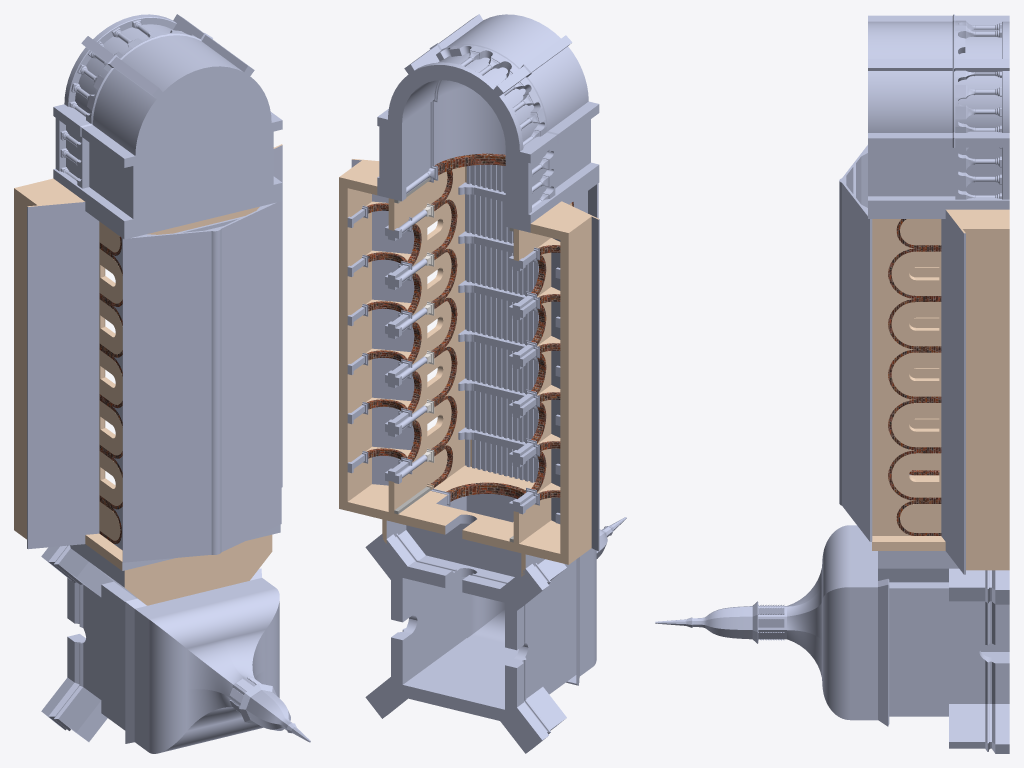
File: main.glb
3 renders of one model, left to right at view 1: azimuth 30°, elevation 25°; view 2: azimuth 150°, elevation 25°; view 3: azimuth 270°, elevation 25°, orthographic. The views are drawn at different scales.
Parts seen in each view (by area): view 1: nef V2-1, murs bas cotes-1, Abside-1, tour-1, pilier-1, pilier droit-1; view 2: nef V2-1, murs bas cotes-1, tour-1, Abside-1, pilier-1, pilier droit-1; view 3: tour-1, nef V2-1, murs bas cotes-1, Abside-1, pilier-1, pilier droit-1.
Part boxes in pixels (x1=…): nef V2-1: x1=99, y1=201, x2=281, y2=562; murs bas cotes-1: x1=14, y1=144, x2=282, y2=605; Abside-1: x1=53, y1=14, x2=282, y2=239; tour-1: x1=41, y1=545, x2=310, y2=753; pilier-1: x1=69, y1=19, x2=196, y2=123; pilier droit-1: x1=60, y1=130, x2=89, y2=188; nef V2-1: x1=347, y1=164, x2=598, y2=543; murs bas cotes-1: x1=339, y1=159, x2=599, y2=576; tour-1: x1=365, y1=517, x2=626, y2=753; Abside-1: x1=377, y1=14, x2=599, y2=232; pilier-1: x1=436, y1=45, x2=546, y2=147; pilier droit-1: x1=532, y1=145, x2=555, y2=208; tour-1: x1=655, y1=525, x2=1009, y2=753; nef V2-1: x1=839, y1=145, x2=941, y2=541; murs bas cotes-1: x1=872, y1=209, x2=1009, y2=582; Abside-1: x1=868, y1=14, x2=1009, y2=218; pilier-1: x1=955, y1=20, x2=1001, y2=132; pilier droit-1: x1=955, y1=147, x2=1001, y2=199.
Size of the model in its own units: 29 by 75.27 by 35.
Materials: 9 (4 with a texture image).
